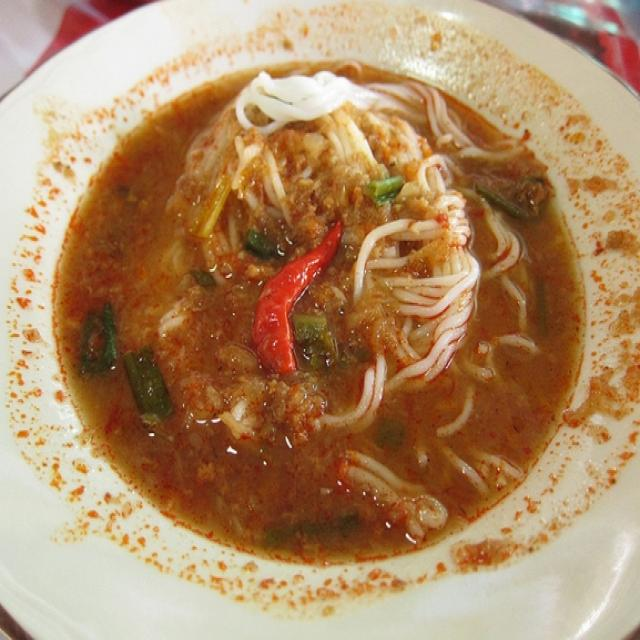面条主食: (20, 10, 619, 615)
